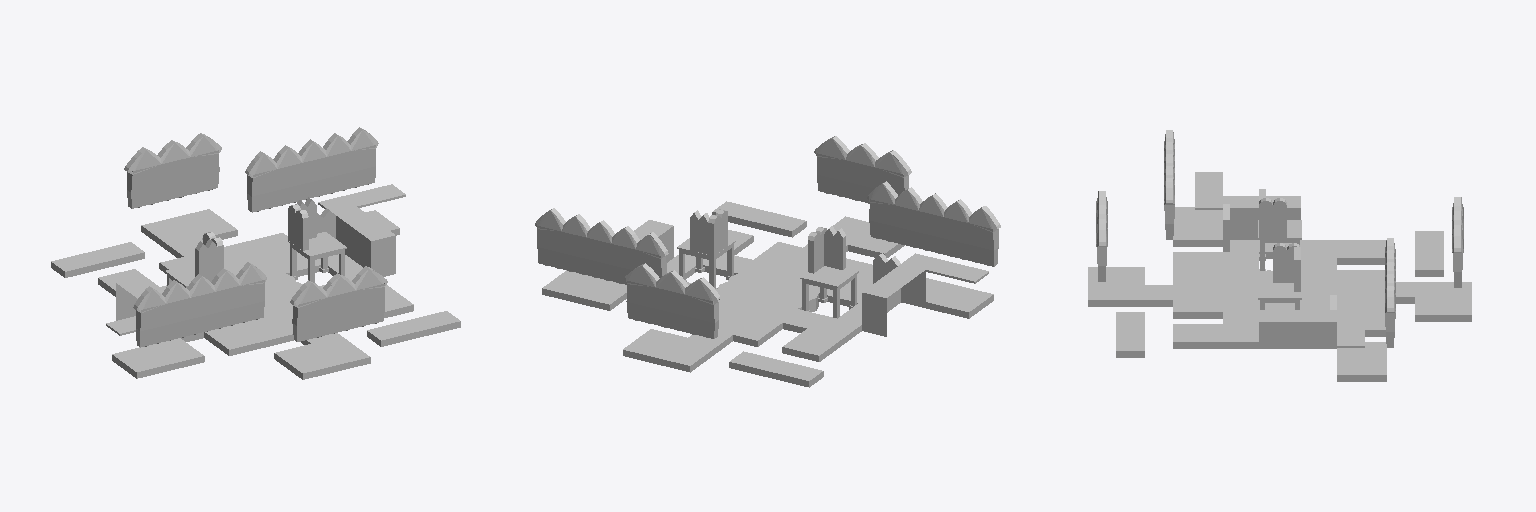
File: MiddleHiagari.obj
3 renders of one model, left to right at view 1: azimuth 30°, elevation 25°; view 2: azimuth 150°, elevation 25°; view 3: azimuth 270°, elevation 25°, orthographic.
Parts seen in each view (by area): view 1: COL_17, COL_C6, COL_6, COL_17.001, COL_C5, COL_4007, COL_8, COL_C8; view 2: COL_17, COL_C6, COL_6, COL_17.001, COL_4007, COL_C5, COL_8, COL_C8; view 3: COL_C6, COL_17, COL_4007, COL_6, COL_17.001, COL_C5, COL_8.
Boxes of the visible parts, box(x1,y1,x2,y2) form: COL_17: box(116, 127, 395, 347); COL_C6: box(51, 209, 459, 372); COL_6: box(51, 226, 460, 379); COL_17.001: box(195, 197, 335, 280); COL_C5: box(117, 207, 394, 298); COL_4007: box(106, 184, 405, 341); COL_8: box(165, 241, 346, 287); COL_C8: box(265, 274, 302, 298); COL_17: box(535, 136, 1000, 338); COL_C6: box(543, 201, 993, 380); COL_6: box(542, 212, 993, 387); COL_17.001: box(690, 209, 900, 297); COL_4007: box(667, 253, 988, 347); COL_C5: box(634, 220, 924, 297); COL_8: box(677, 241, 858, 318); COL_C8: box(718, 274, 818, 311); COL_C6: box(1088, 207, 1471, 374); COL_17: box(1096, 130, 1463, 348); COL_4007: box(1195, 172, 1364, 348); COL_6: box(1088, 240, 1471, 381); COL_17.001: box(1223, 189, 1336, 341); COL_C5: box(1223, 196, 1336, 321); COL_8: box(1258, 238, 1301, 309).
Size of the model in its own units: 58 by 14.94 by 54.